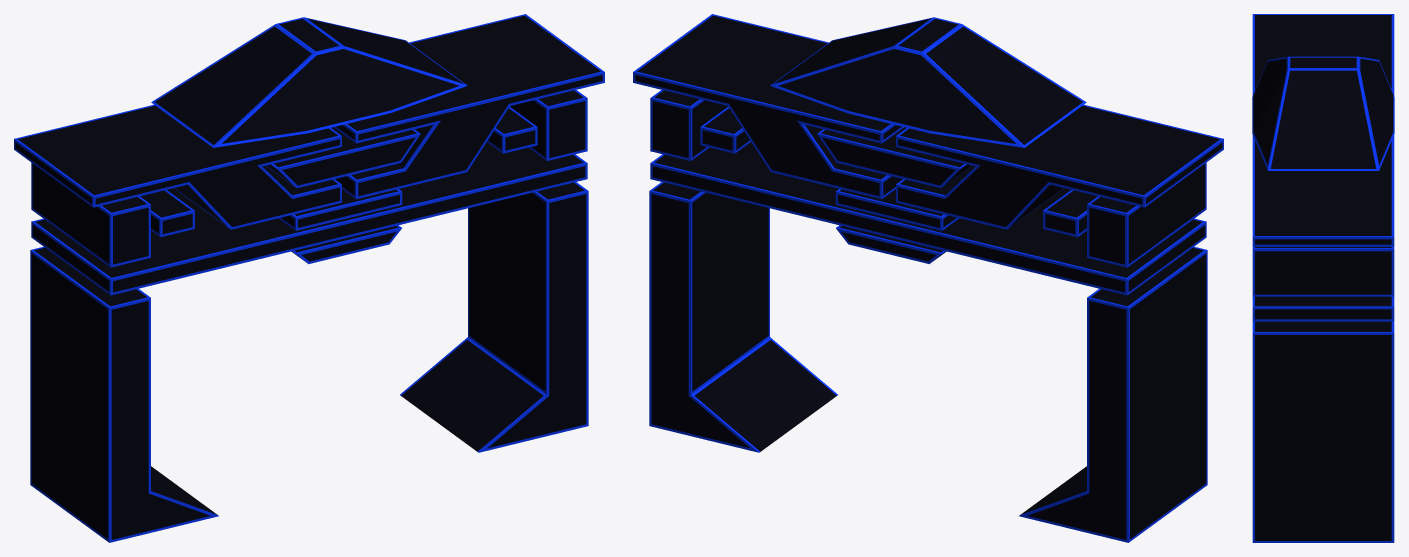
The model's file is recogniser.obj.
The picture shows the model from 3 angles, left to right: view 1: azimuth 30°, elevation 25°; view 2: azimuth 150°, elevation 25°; view 3: azimuth 270°, elevation 25°; orthographic projection. The views are drawn at different scales.
Parts seen in each view (by area): view 1: Plane.010; view 2: Plane.010; view 3: Plane.010.
Part boxes in pixels (left/top/right/bottom): Plane.010: left=14, top=14, right=604, bottom=542; Plane.010: left=633, top=14, right=1223, bottom=542; Plane.010: left=1252, top=14, right=1394, bottom=542.
Size of the model in its own units: 1.27 by 0.9991 by 0.3436.
